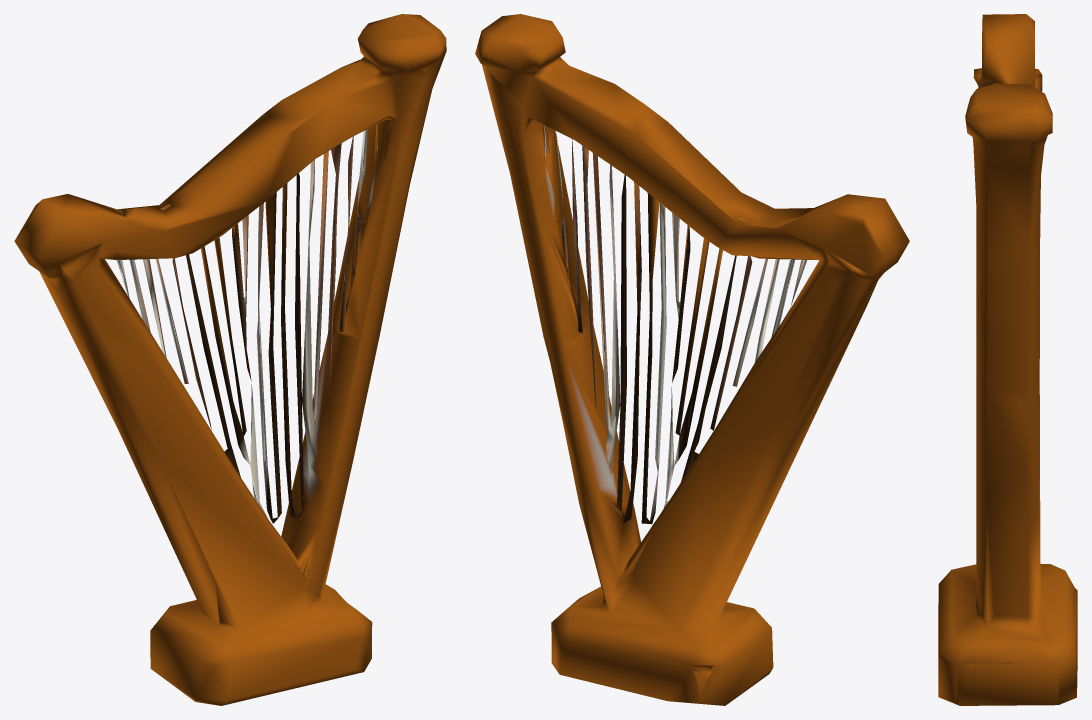
Rendered from gen3d-harp-lod1.glb.
3 renders of one model, left to right at view 1: azimuth 30°, elevation 25°; view 2: azimuth 150°, elevation 25°; view 3: azimuth 270°, elevation 25°, orthographic. The views are drawn at different scales.
Visible parts, largest first — view 1: part_0; view 2: part_0; view 3: part_0.
Part boxes in pixels (x1=…): part_0: x1=14, y1=14, x2=446, y2=705; part_0: x1=475, y1=14, x2=909, y2=705; part_0: x1=938, y1=14, x2=1077, y2=705.
Size of the model in its own units: 0.7099 by 0.9994 by 0.1984.
